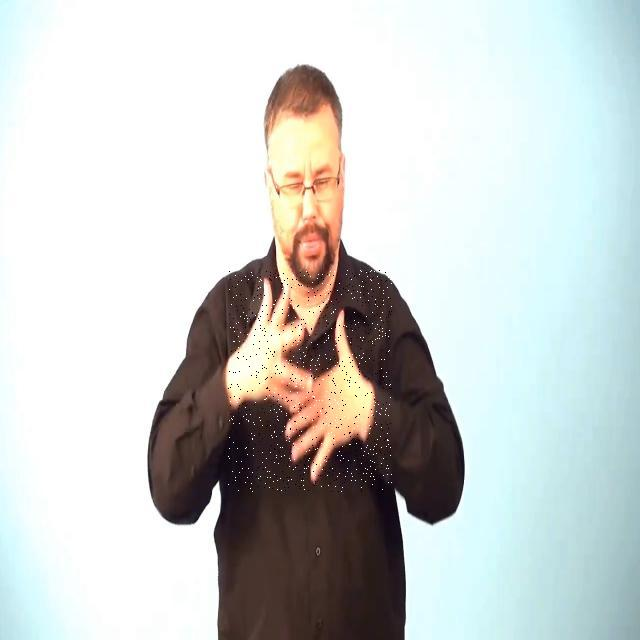juicy: (228, 270, 392, 492)
